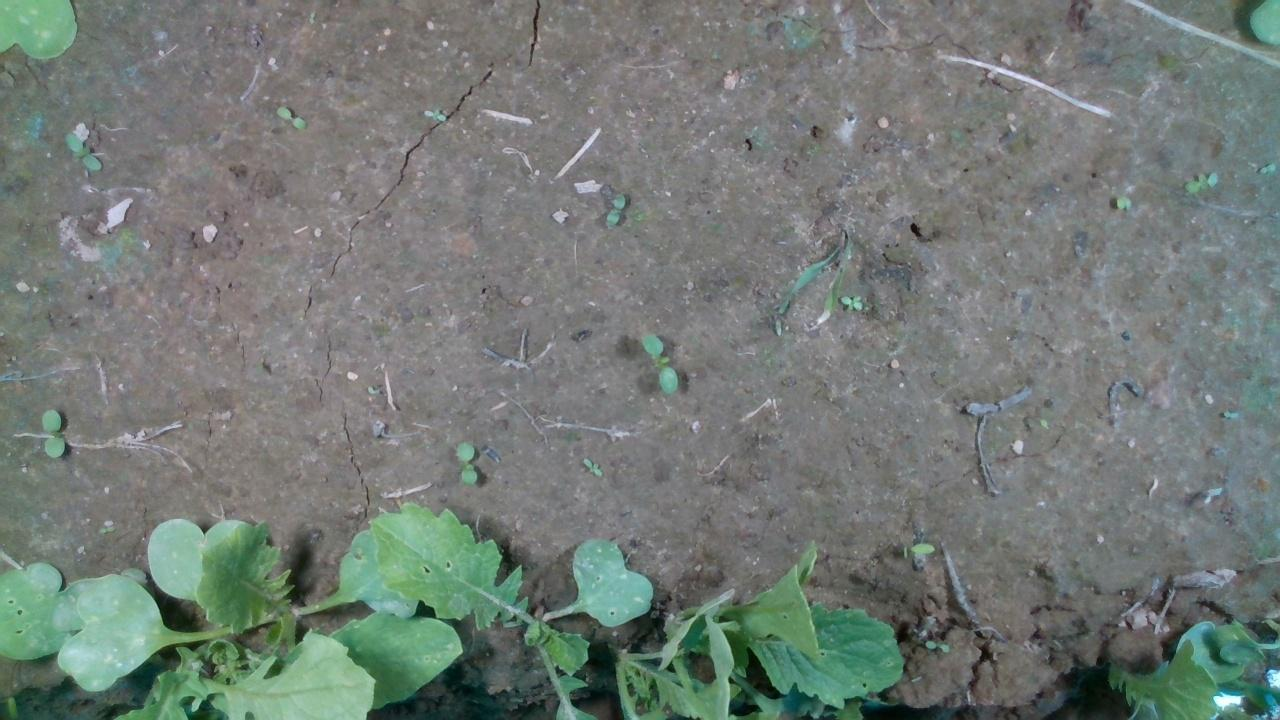weed: (603, 191, 625, 230)
